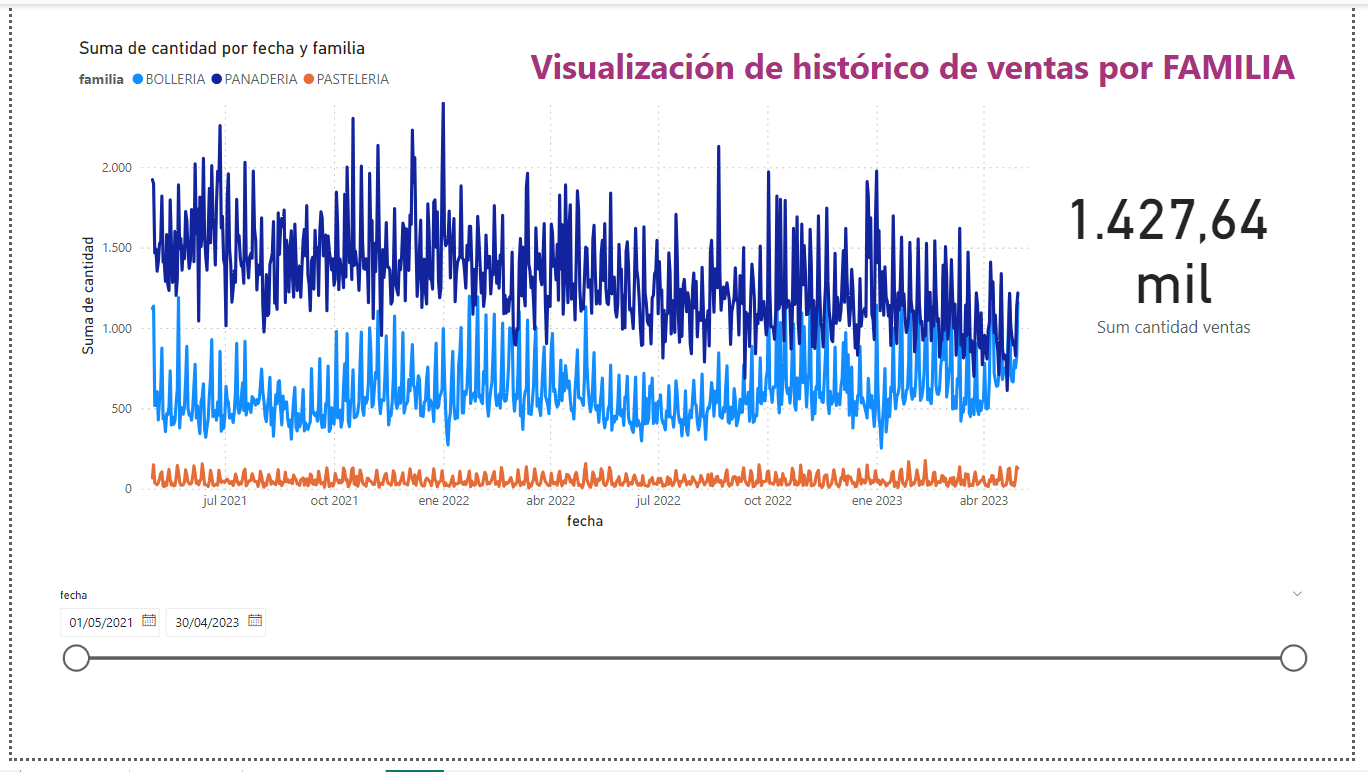

What the dashboard file says about the page in this screenshot:
{"tool":"powerbi","page":{"name":"HIST I","canvas":[1280,720],"ordinal":0},"visuals":[{"type":"card","fields":{"Values":["Medidas.Sum cantidad ventas"]},"box":[968.7,90.7,281.5,297.4],"z":0},{"type":"lineChart","fields":{"Category":["Datos.fecha"],"Y":["Sum(Datos.cantidad)"],"Series":["Datos.familia"]},"box":[58.9,31.8,930.5,474],"z":1000},{"type":"slicer","fields":{"Values":["Datos.fecha"]},"box":[33.4,553.5,1212,114.5],"z":2000},{"type":"textbox","box":[489.9,31.8,755.5,55.7],"z":3000}]}

Visuals, with their boxes in screenshot pixels (x1, y1, x2, y2), scaled from the page's 1280x720 canvas onto the 1368x772 screenshot:
card - Medidas.Sum cantidad ventas: left=1035, top=97, right=1336, bottom=416
lineChart - Datos.fecha x Sum(Datos.cantidad): left=63, top=34, right=1057, bottom=542
slicer - Datos.fecha: left=36, top=593, right=1331, bottom=716
textbox: left=524, top=34, right=1331, bottom=94
